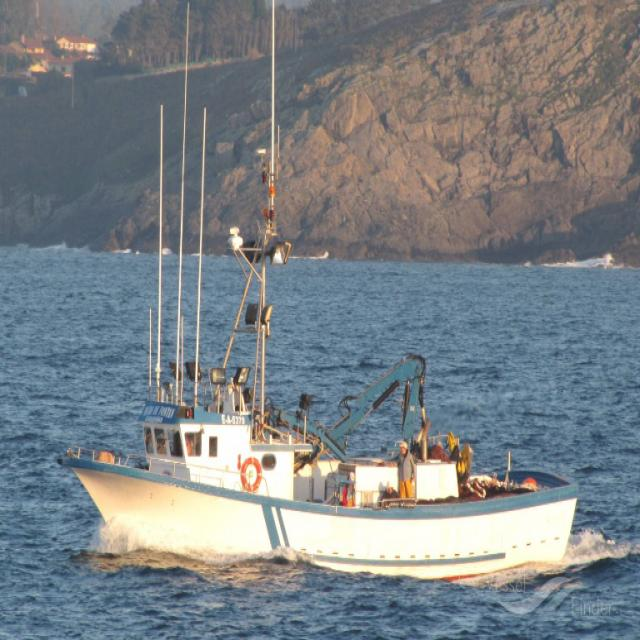Fishing Vessel: (58, 207, 580, 583)
